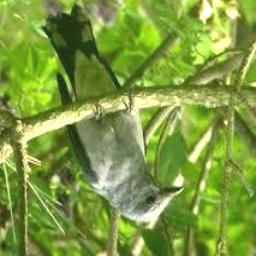Cuckoo: (42, 5, 184, 221)
